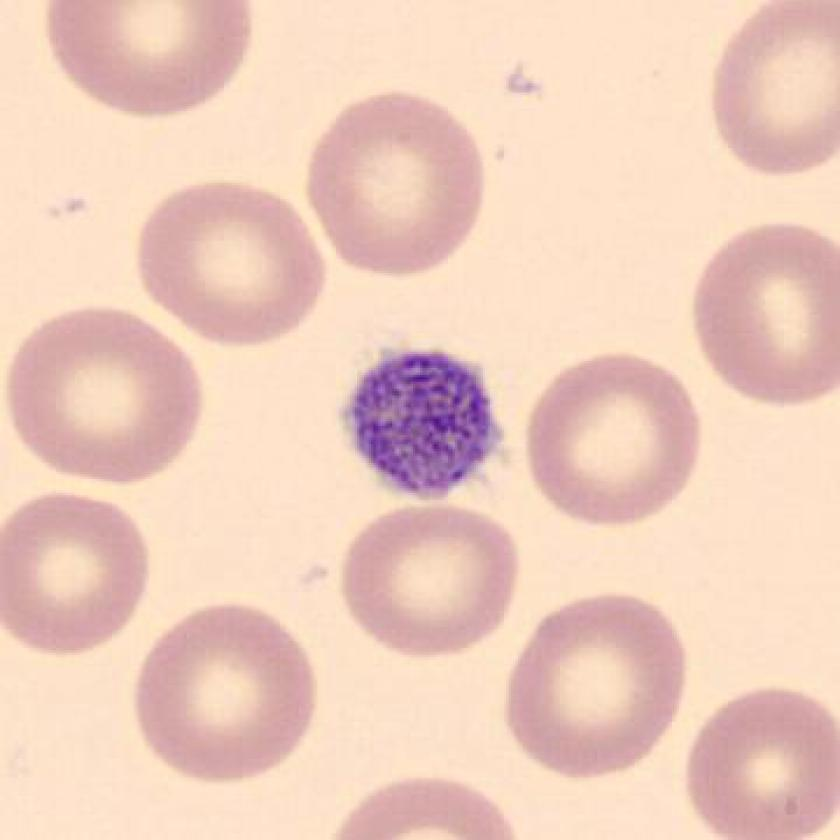platelets: (337, 344, 510, 506)
